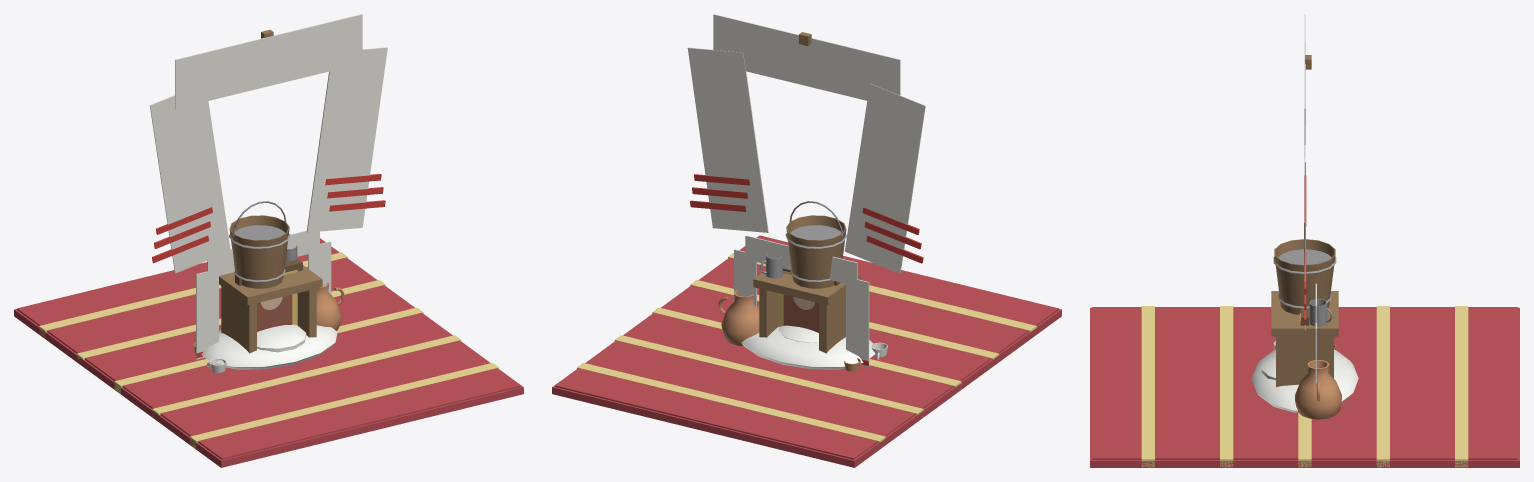
The model's file is bz_hutprops.glb.
3 views of the same model, side by side, from view 1: azimuth 30°, elevation 25°; view 2: azimuth 150°, elevation 25°; view 3: azimuth 270°, elevation 25° (orthographic). The views are drawn at different scales.
Visible parts, largest first — view 1: Набір_ковдра, Набір_рушник, Набір_відро, Набір_ікона, Набір_подушки, Набір_стіл; view 2: Набір_ковдра, Набір_рушник, Набір_відро, Набір_ікона, Набір_подушки, Набір_стіл; view 3: Набір_ковдра, Набір_відро, Набір_подушки, Набір_стіл, Набір_рушник.
Boxes of the visible parts, x1,y1,x2,y2 form: Набір_ковдра: (14, 238, 523, 467); Набір_рушник: (149, 14, 387, 273); Набір_відро: (219, 201, 322, 353); Набір_ікона: (196, 230, 331, 359); Набір_подушки: (201, 324, 337, 369); Набір_стіл: (193, 282, 344, 372); Набір_ковдра: (552, 235, 1061, 467); Набір_рушник: (687, 14, 925, 273); Набір_відро: (753, 201, 860, 353); Набір_ікона: (734, 235, 869, 367); Набір_подушки: (741, 325, 875, 369); Набір_стіл: (718, 290, 887, 371); Набір_ковдра: (1090, 306, 1519, 467); Набір_відро: (1271, 223, 1338, 387); Набір_подушки: (1251, 349, 1358, 412); Набір_стіл: (1273, 341, 1341, 419); Набір_рушник: (1304, 14, 1311, 330).
Size of the model in its own units: 1.62 by 1.88 by 1.92.
